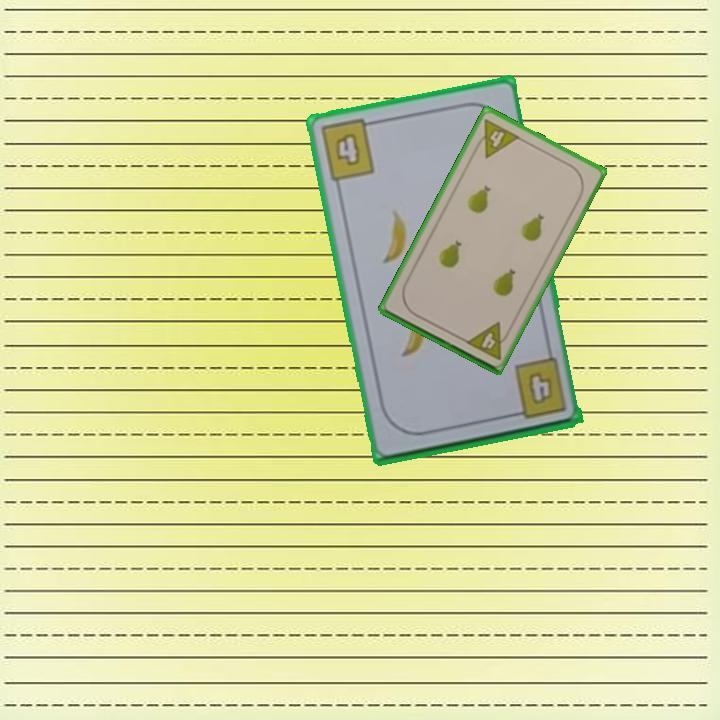4b: (316, 116, 380, 184), (506, 354, 570, 422)
4p: (470, 115, 523, 161), (462, 318, 514, 363)
